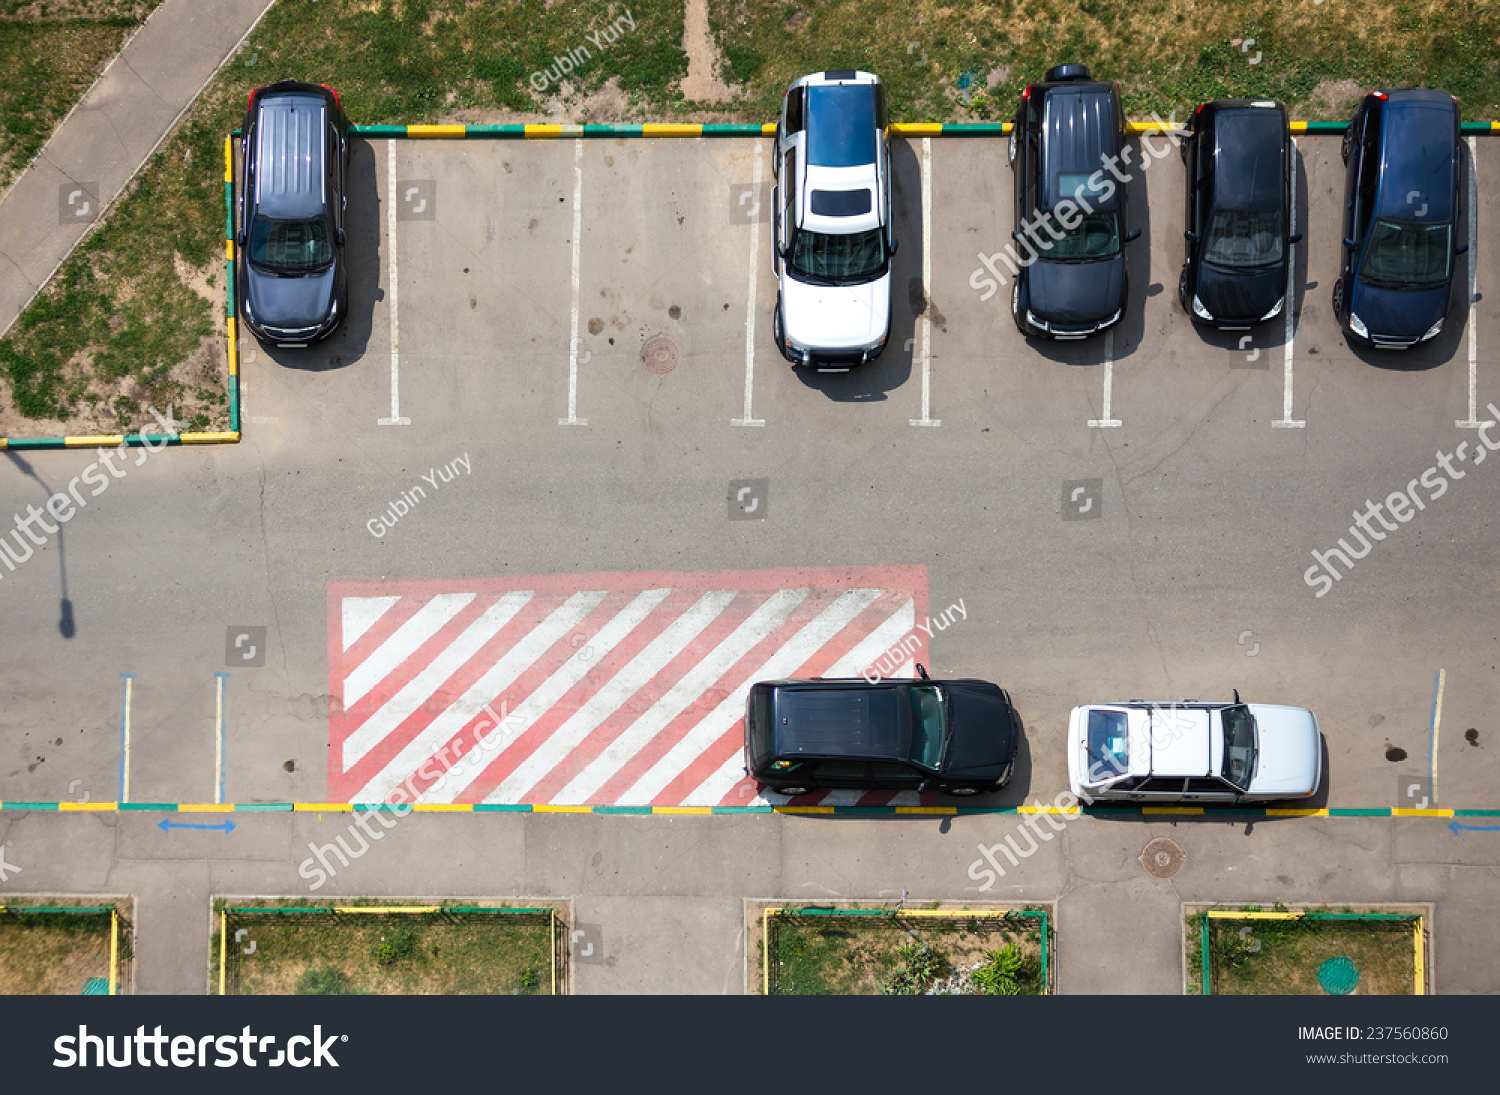Car: (770, 69, 893, 380), (1064, 698, 1326, 818)
LaneMark: (726, 143, 772, 439), (552, 137, 597, 438), (901, 136, 944, 443), (375, 141, 410, 439), (1265, 349, 1311, 441), (1088, 346, 1126, 435)
